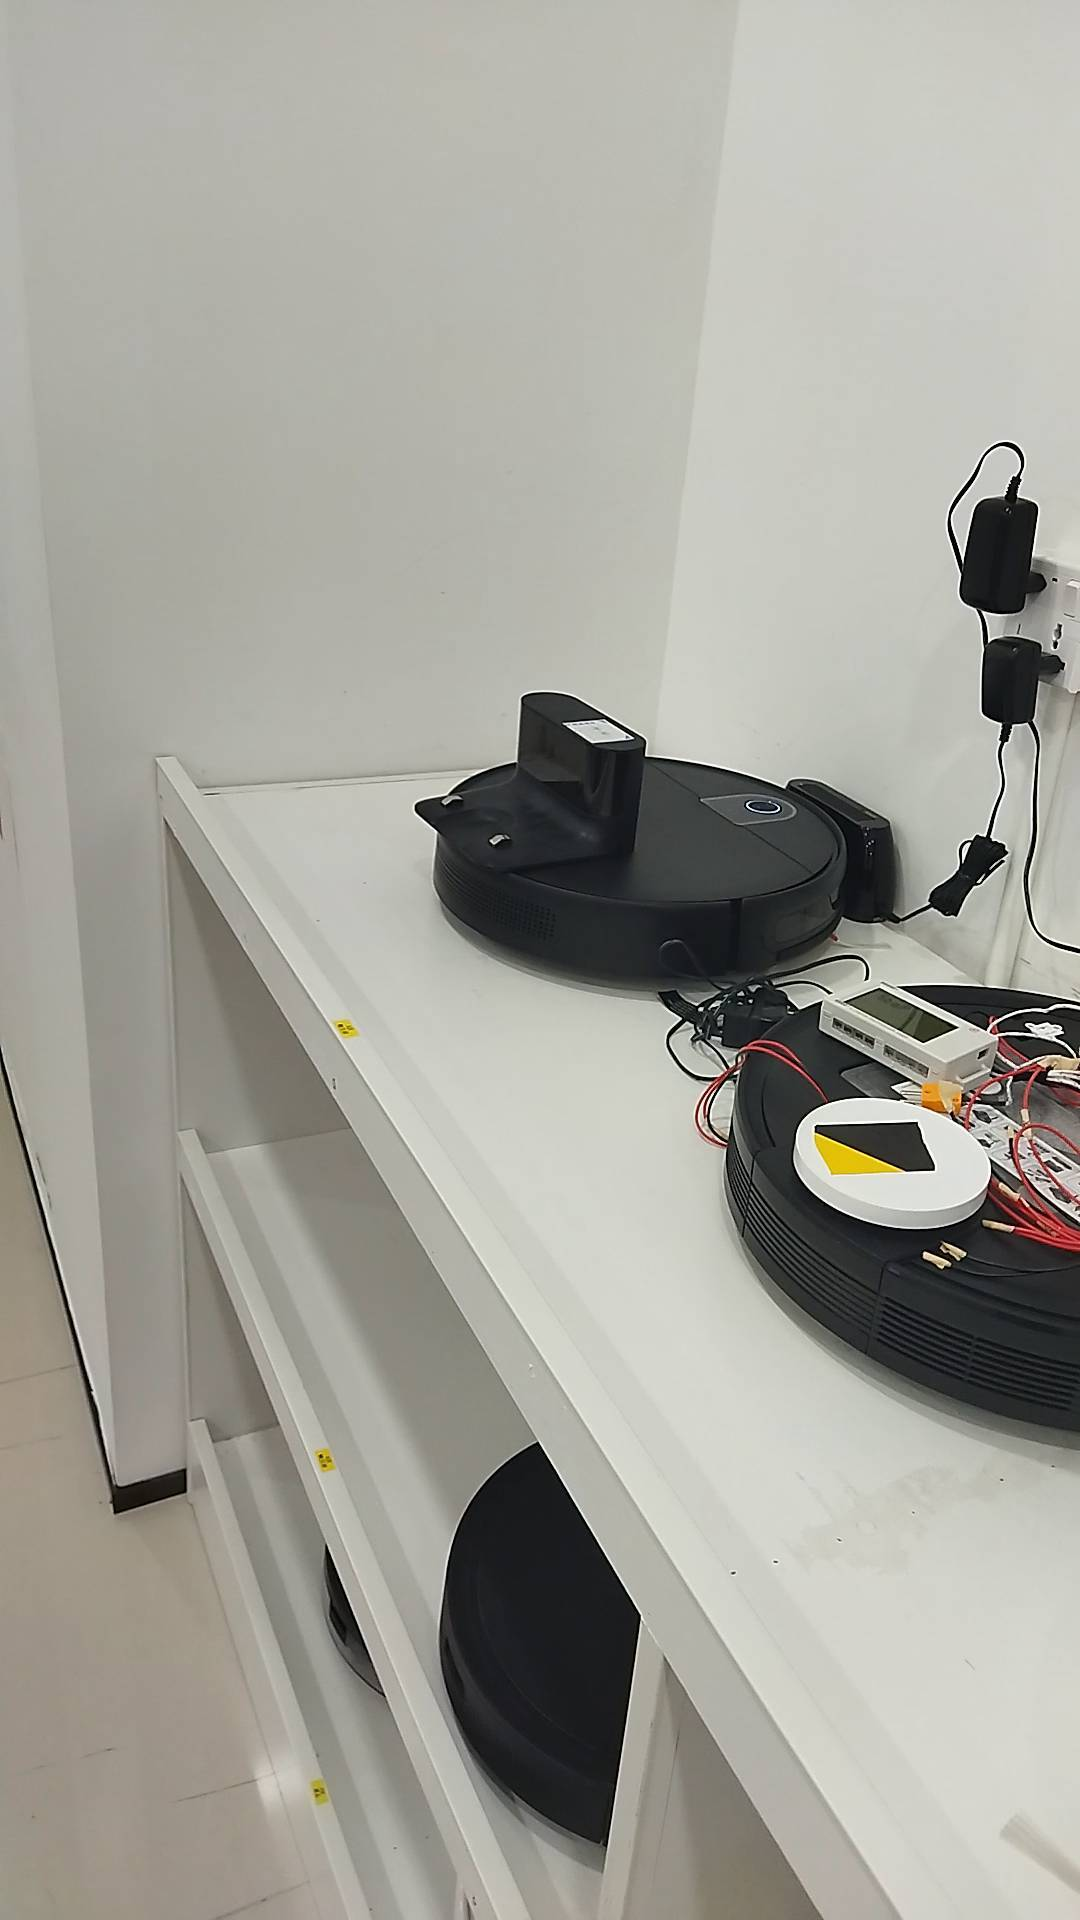recharge seat: (411, 692, 647, 877)
